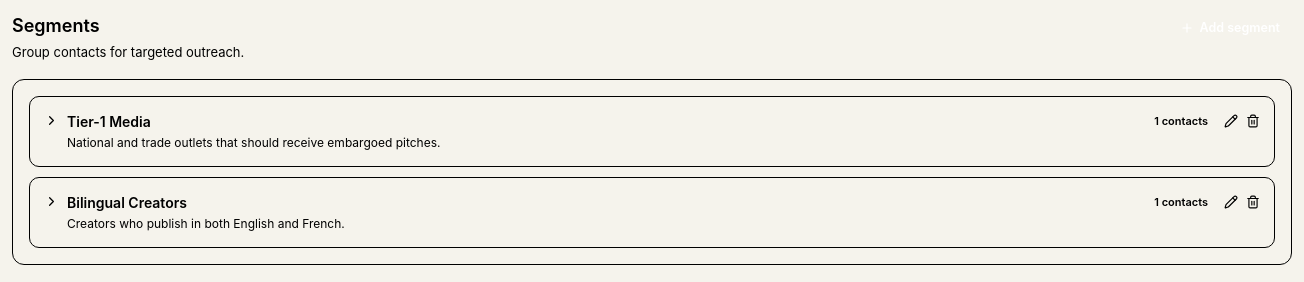
Test: Segments screen › deletes a segment after confirmation
Click the 1st button named "Remove". click: x=1253, y=121
box: [1246, 114, 1260, 128]
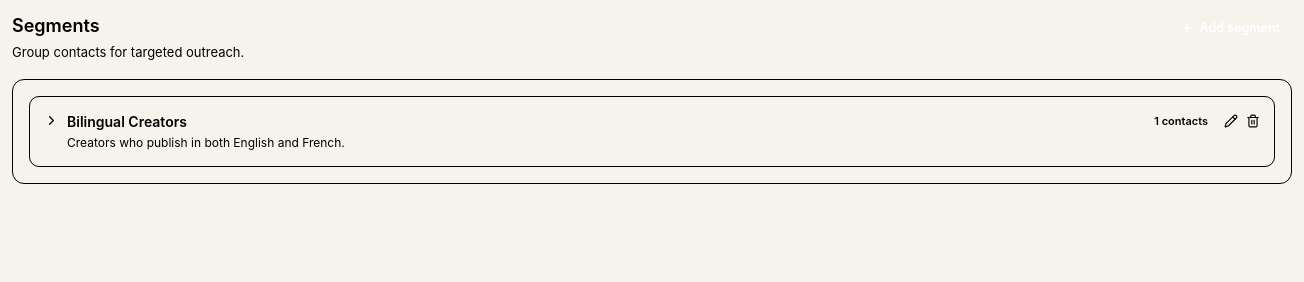
Expected: the text "Bilingual Creators" is shown, [67, 112, 187, 130]
Now the button "Tier-1 Media" is gone
